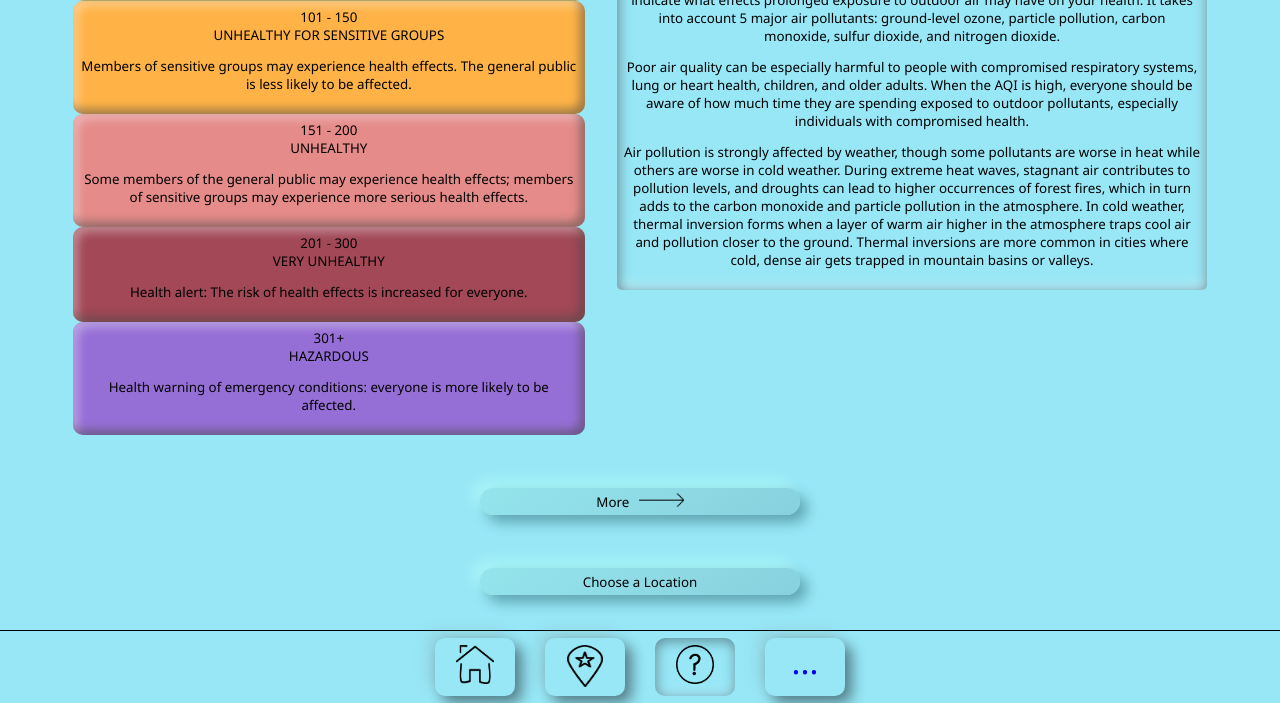
OzoneIQ AQI Info Page › Should be able to click more and navigate to another information section that includes how to stay safe and ways to limit your carbon footprint
This screenshot has width=1280, height=703.
(page scrolled)
Click the button with class "more-btn": [640, 502] box [480,488,800,515]
(page scrolled)
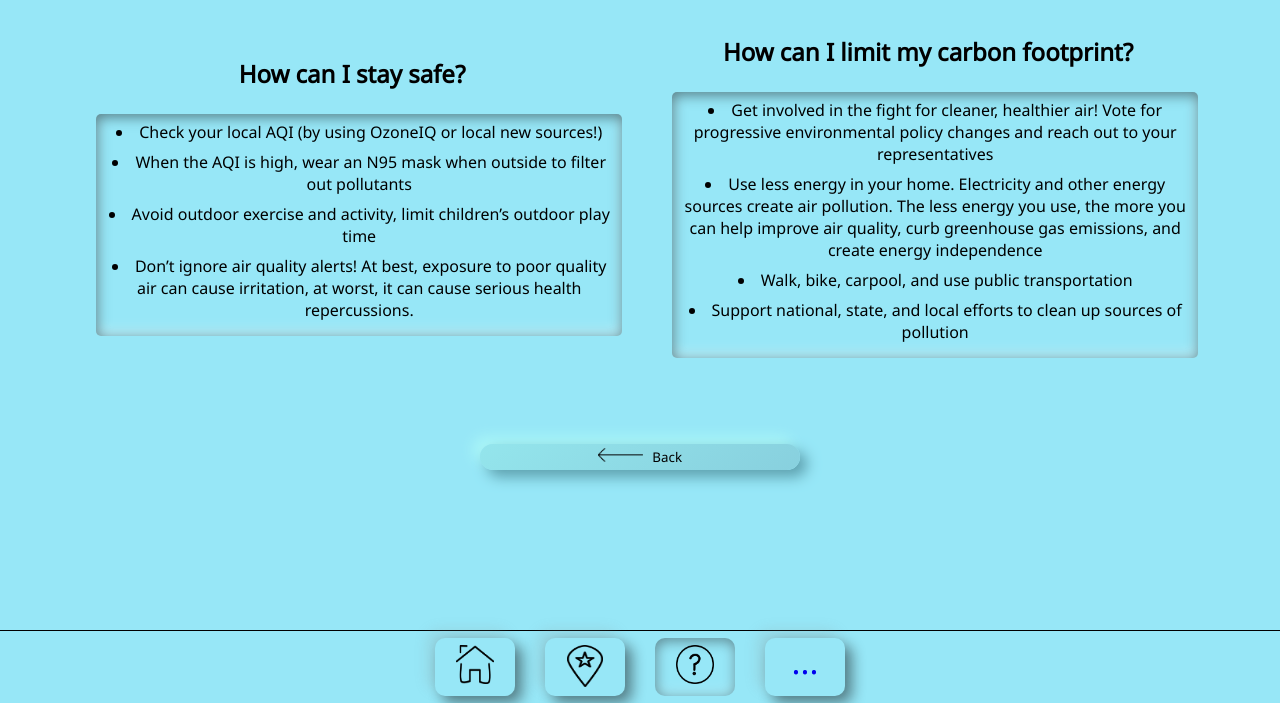
Expected: the 1st list item is shown, [103,121,615,151]
